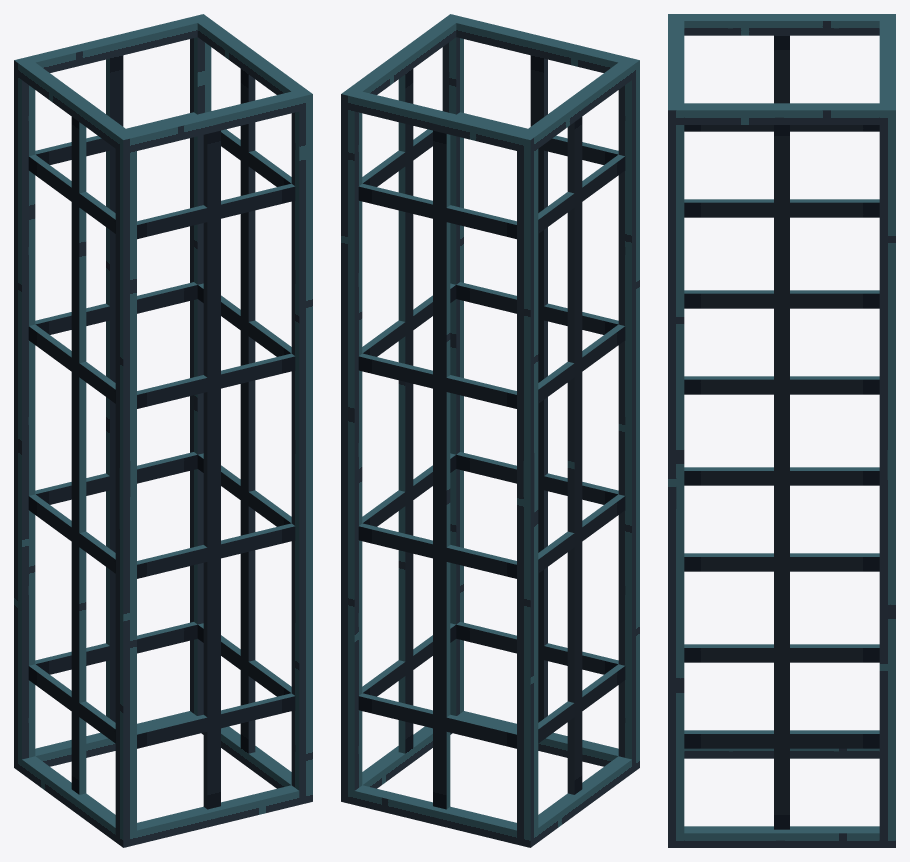
The model's file is neon_frame_aao.fezao.glb.
The picture shows the model from 3 angles, left to right: view 1: azimuth 30°, elevation 25°; view 2: azimuth 150°, elevation 25°; view 3: azimuth 270°, elevation 25°; orthographic projection. The views are drawn at different scales.
Visible parts, largest first — view 1: NEON_FRAME_AAO; view 2: NEON_FRAME_AAO; view 3: NEON_FRAME_AAO.
Boxes of the visible parts, left/top/right/bottom form: NEON_FRAME_AAO: left=14, top=14, right=312, bottom=847; NEON_FRAME_AAO: left=341, top=14, right=639, bottom=847; NEON_FRAME_AAO: left=668, top=14, right=895, bottom=847.
Size of the model in its own units: 1.75 by 6.25 by 1.75.
1 material, 1 textured.
